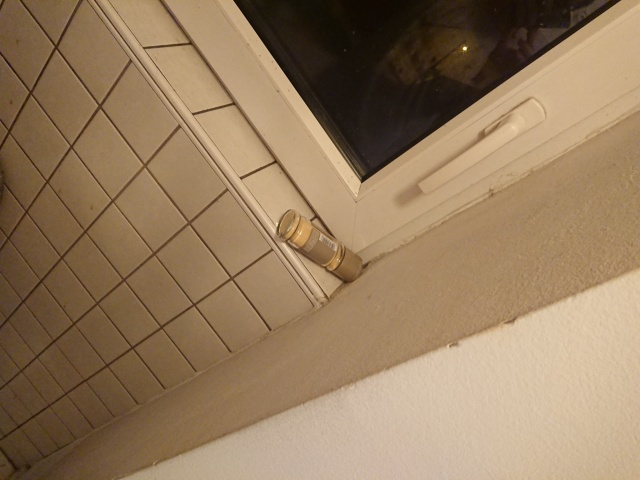Kotanyi Garlic Granules 70g: (274, 207, 365, 285)
